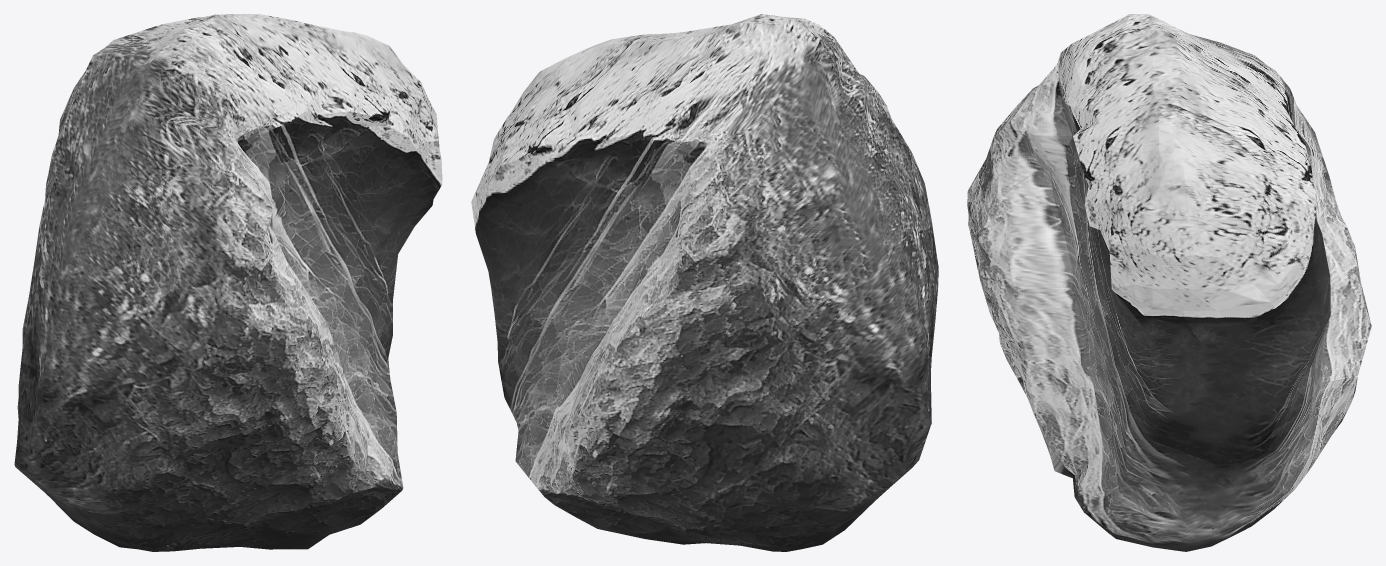
3 renders of one model, left to right at view 1: azimuth 30°, elevation 25°; view 2: azimuth 150°, elevation 25°; view 3: azimuth 270°, elevation 25°, orthographic. The views are drawn at different scales.
Visible parts, largest first — view 1: StoneB; view 2: StoneB; view 3: StoneB.
Boxes of the visible parts, <box> form: StoneB: <box>14,14,442,551</box>; StoneB: <box>471,14,938,551</box>; StoneB: <box>967,14,1371,551</box>.
Size of the model in its own units: 0.4854 by 0.6029 by 0.4657.
1 material, 1 textured.
